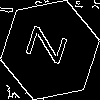Z: (25, 25, 77, 69)
